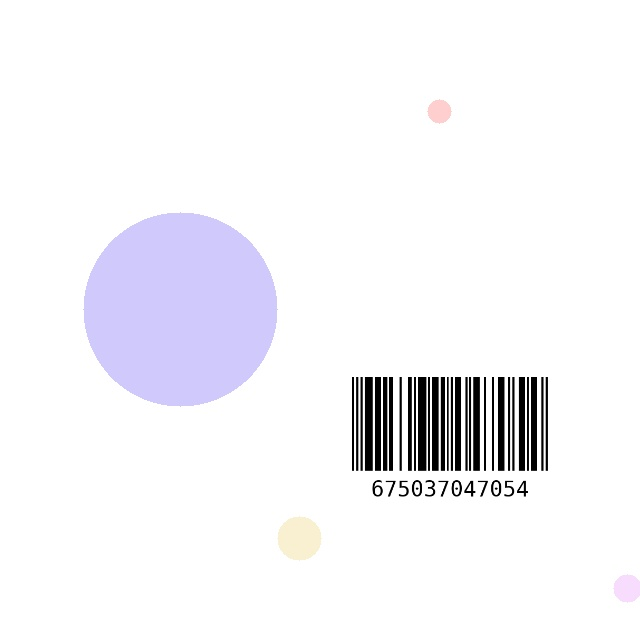barcode: (312, 371, 588, 519)
